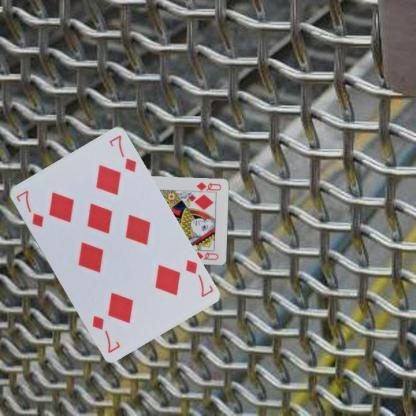7d: (181, 256, 214, 298), (13, 187, 44, 228)
Qd: (192, 180, 223, 194)
